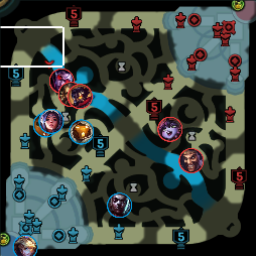bard: (68, 120, 94, 144)
draven: (179, 148, 204, 172)
ekko: (107, 193, 131, 216)
ezreal: (13, 236, 38, 256)
irelia: (39, 109, 62, 132)
lulu: (157, 116, 182, 141)
nidalee: (59, 83, 82, 106)
renekton: (33, 112, 55, 136)
vayne: (49, 69, 73, 92)
viktor: (67, 84, 92, 107)
